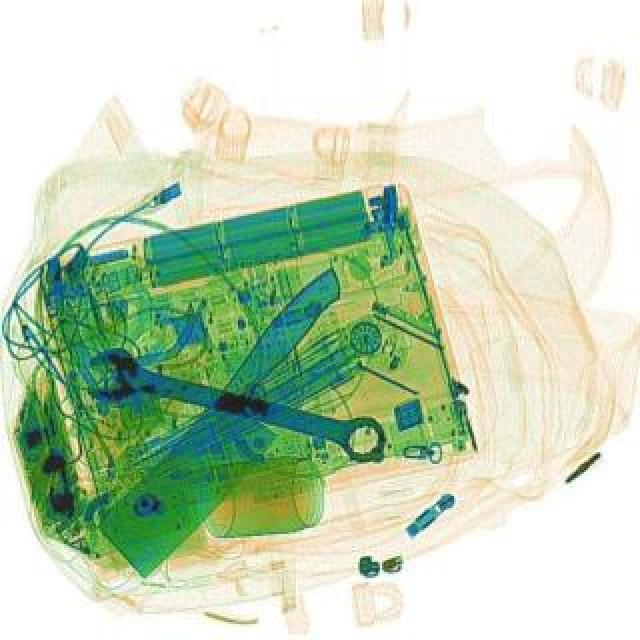knife: (78, 262, 394, 580)
scissors: (76, 340, 392, 468)
